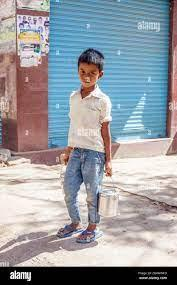Human: (56, 39, 114, 251)
